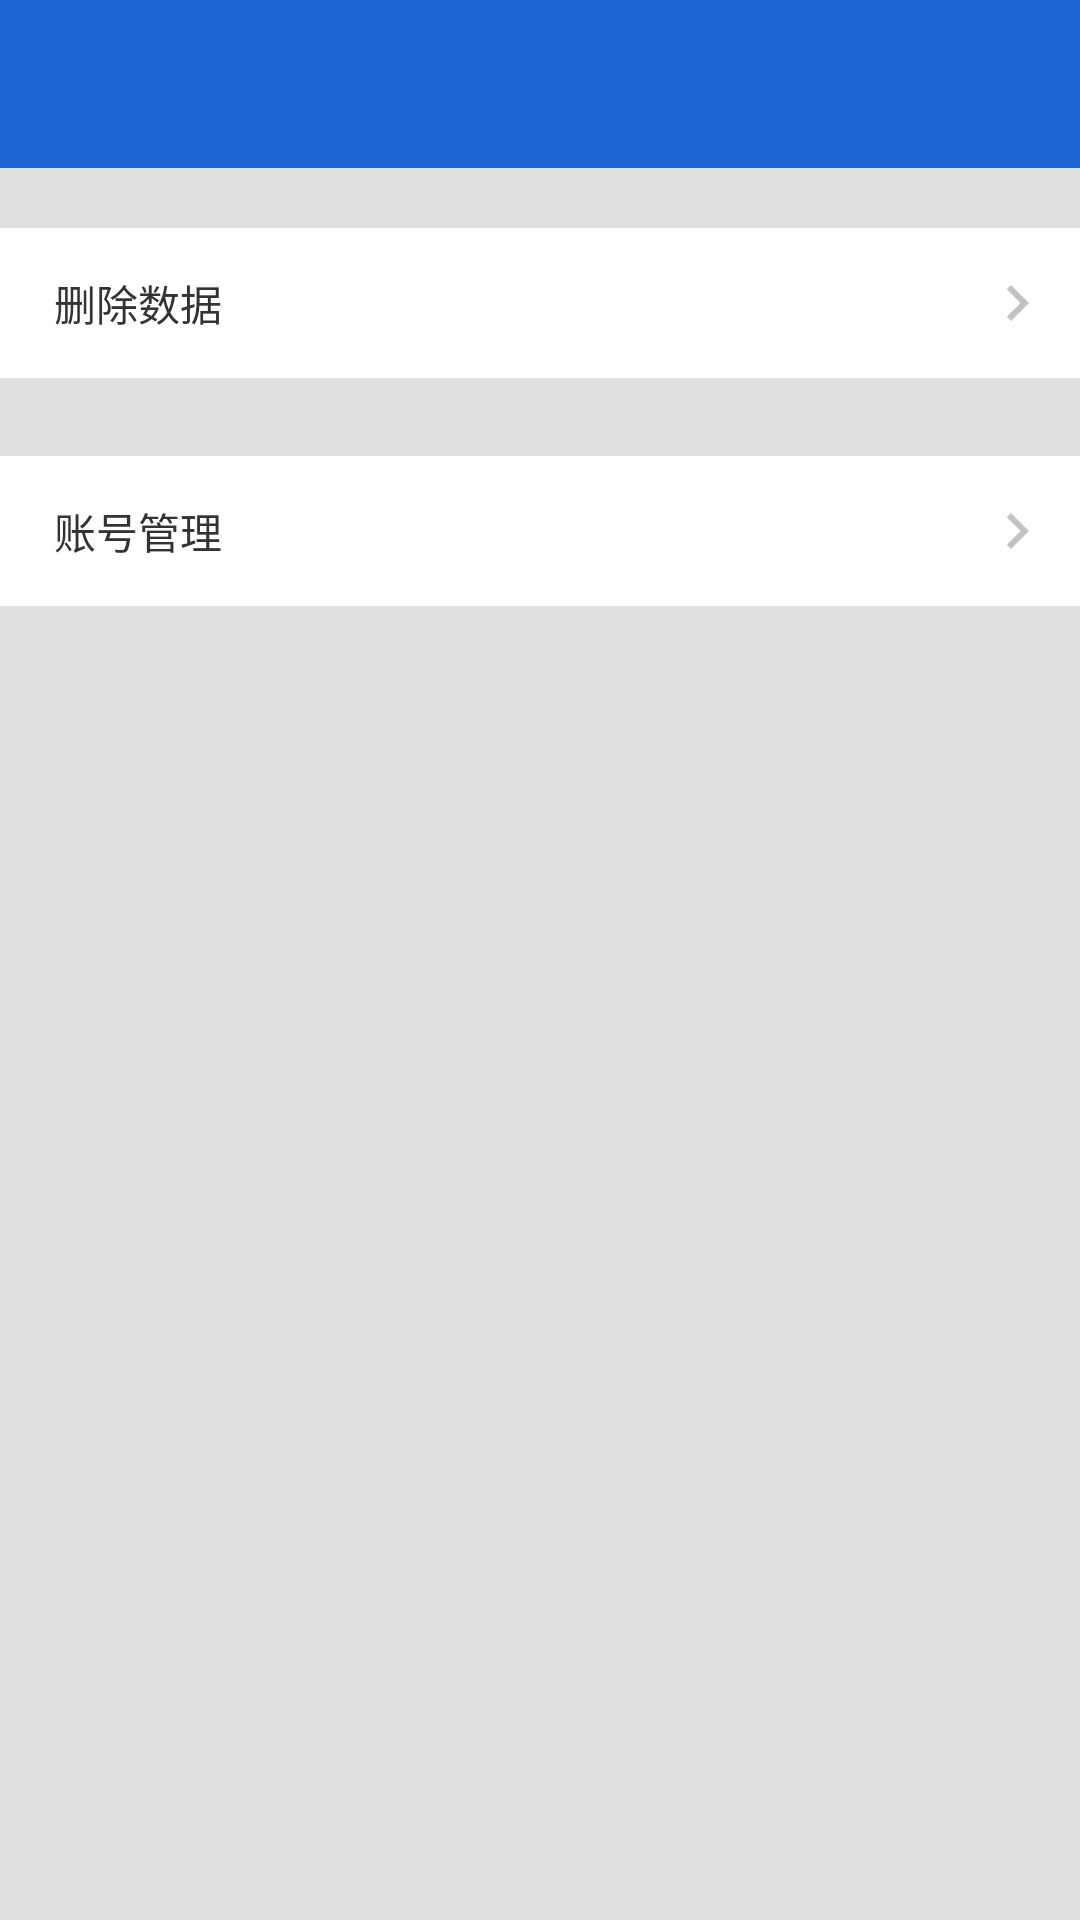

Icon click points for this 1080x1920 phone screenshot, format (x=x, y=y):
chevron right: (x=1018, y=303), (x=1018, y=531)
